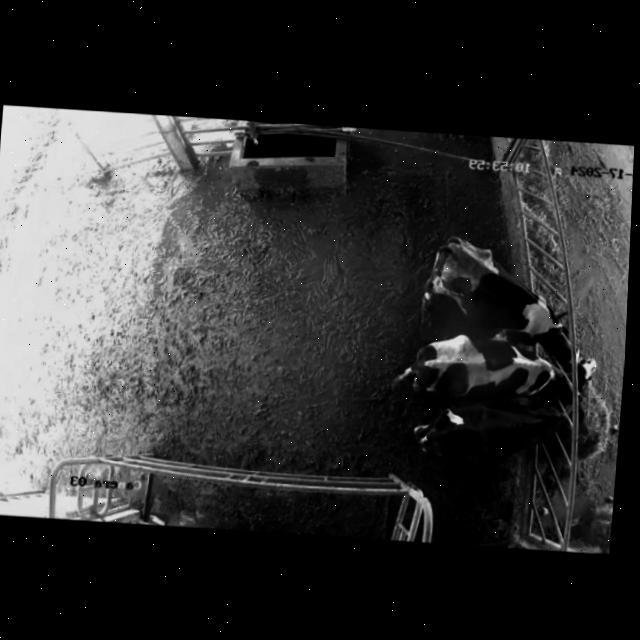eat: (509, 292, 622, 371), (494, 353, 606, 404), (506, 402, 603, 446)
